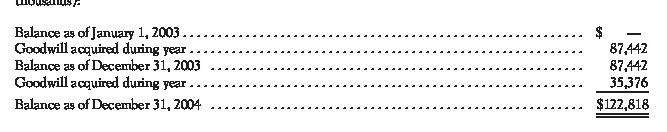table: (0, 0, 667, 132)
